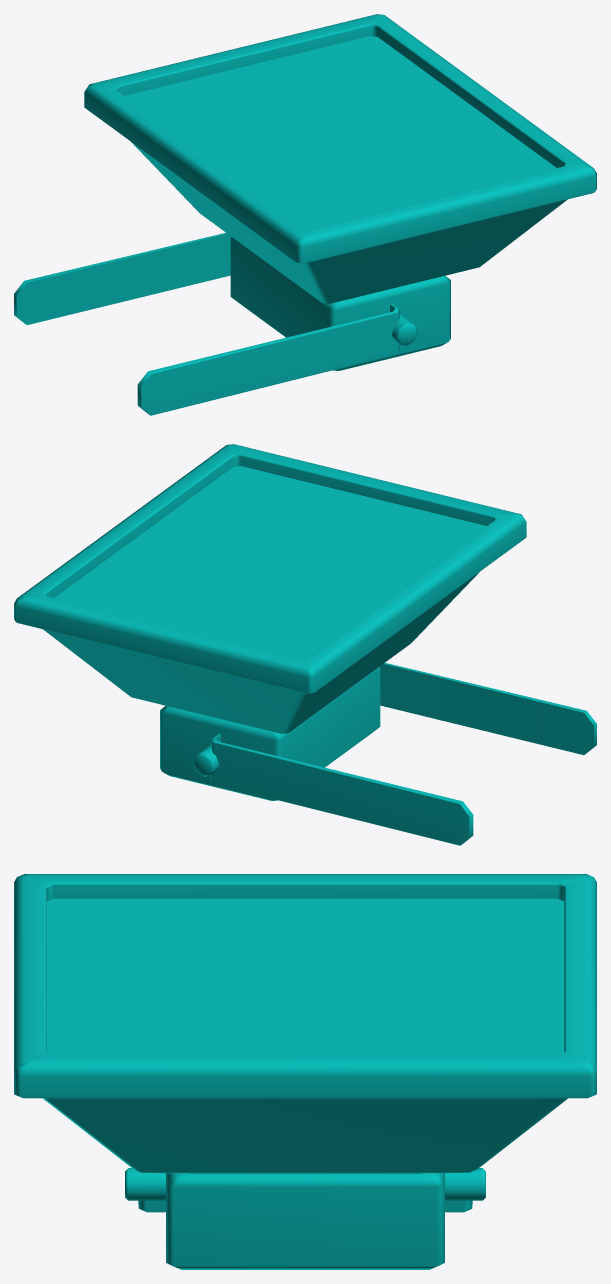
File: street_bracing_1.fbx
The picture shows the model from 3 angles, top to bottom: view 1: azimuth 30°, elevation 25°; view 2: azimuth 150°, elevation 25°; view 3: azimuth 270°, elevation 25°; orthographic projection. The views are drawn at different scales.
Visible parts, largest first — view 1: street_spotlight_1, street_bracing_1; view 2: street_spotlight_1, street_bracing_1; view 3: street_spotlight_1, street_bracing_1.
Part boxes in pixels (x1,y1,x2,y2): street_spotlight_1: (84,14,596,370); street_bracing_1: (14,233,399,415); street_spotlight_1: (14,444,526,800); street_bracing_1: (211,663,596,845); street_spotlight_1: (14,874,596,1269); street_bracing_1: (138,1200,472,1212).
Bounding box in the file's own units: 22.01 × 10 × 20.
